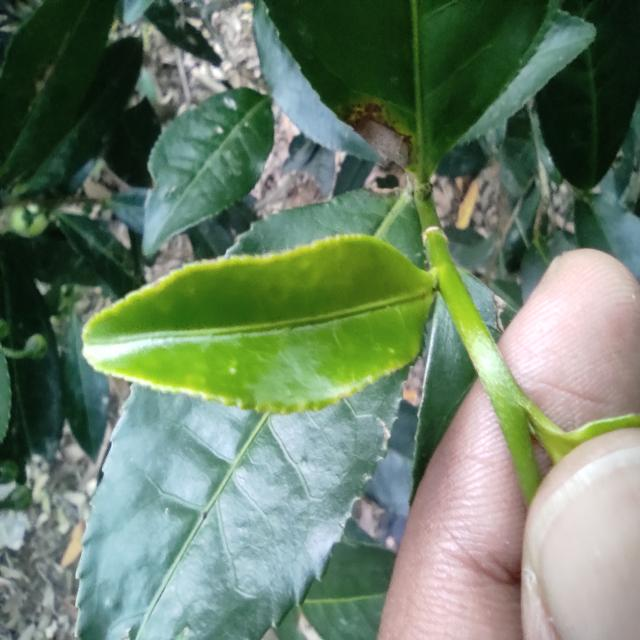Category C 4-7 days: (62, 200, 444, 430)
